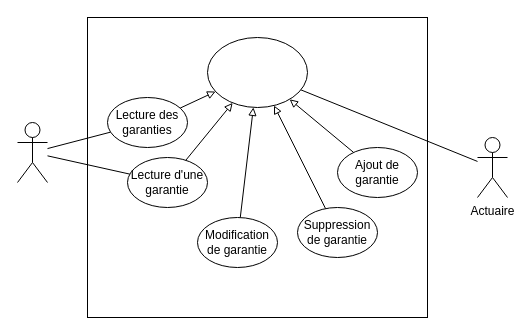
This 532x335 diagram has some shape labels left out. Here are the shapes that lost their labels. From the top down, the centre of each, then its label:
the point at 257,72: Gestion des garanties
the point at 32,152: Client
